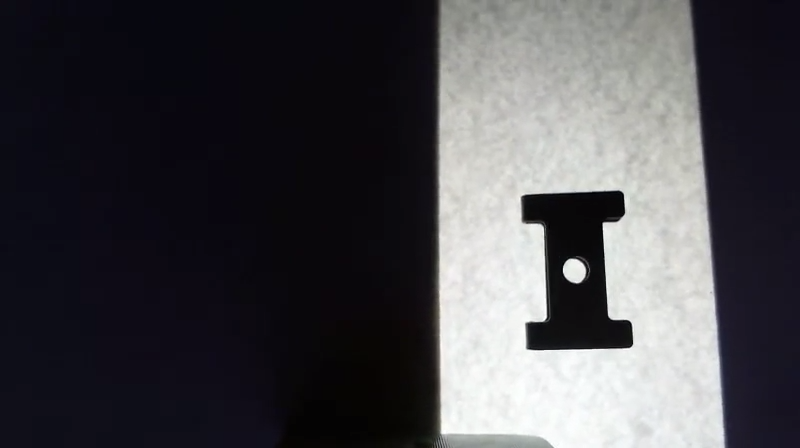O002: (516, 186, 641, 353)
